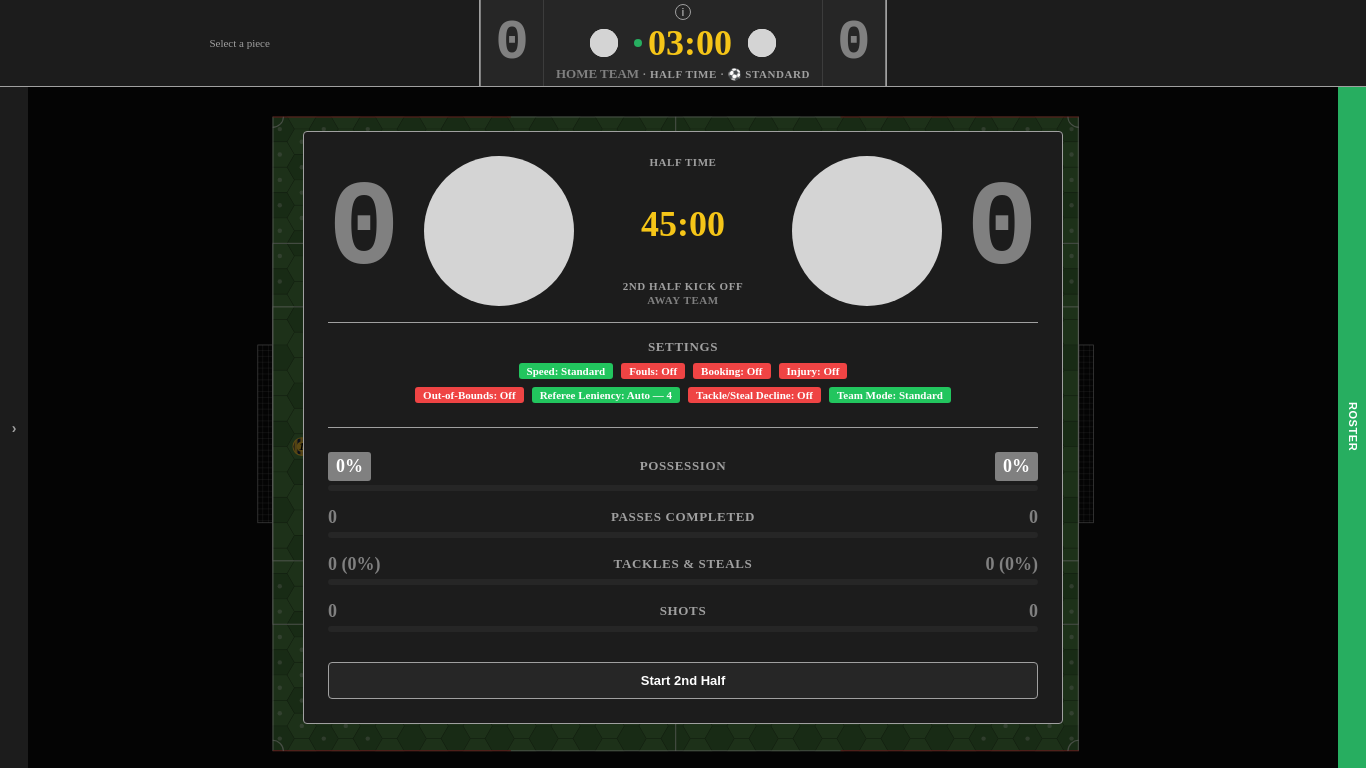
it: Phase 42 — roster panel wiring and chrome › 1. SUB-16: opening the panel renders a Resume button (no Close-substitutions control), and clicking Resume closes it
Click the button with aria-label "Open substitutions" at (1352, 427), box [1342, 398, 1362, 457]
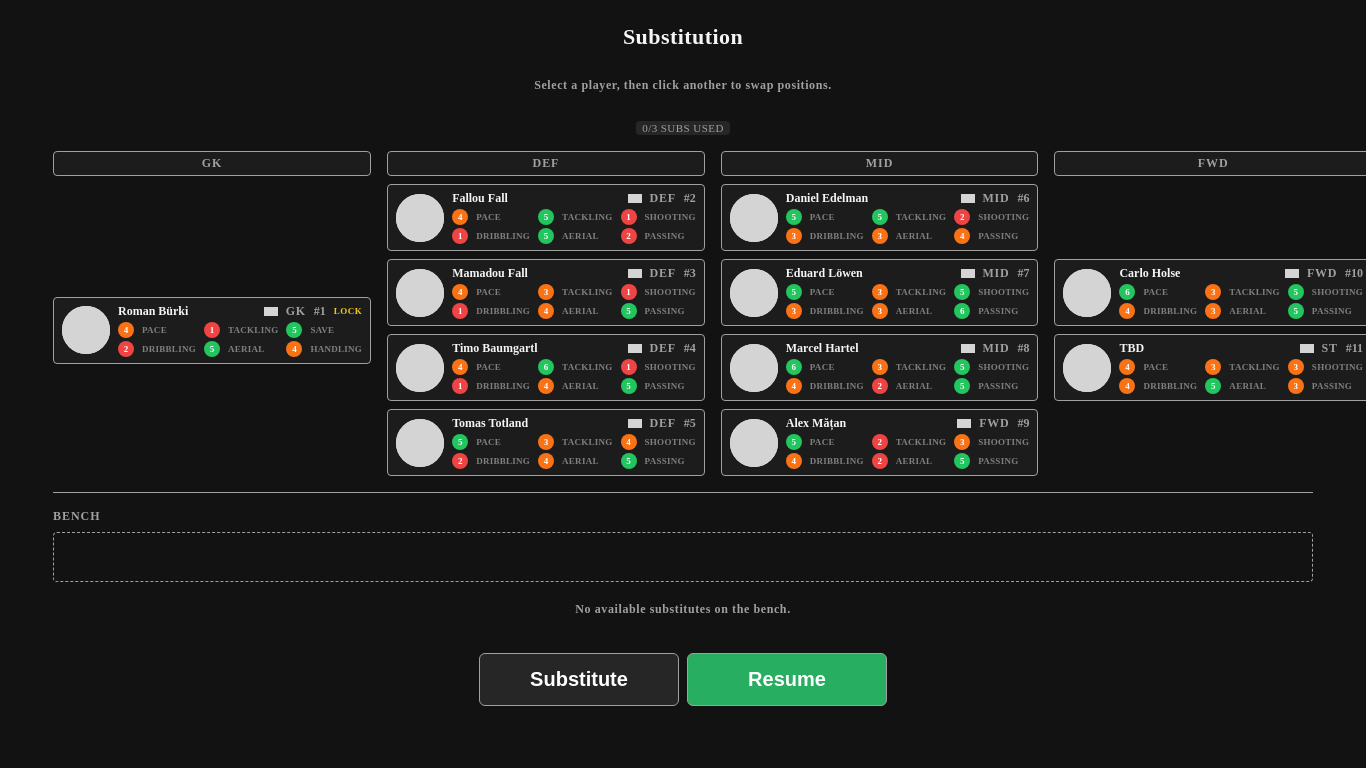
Result: the heading "Substitution" is shown at [623, 24, 743, 50]
Result: the button with aria-label "Resume match" reads "Resume"
Click the button with aria-label "Resume match" at (787, 680), box [687, 653, 887, 706]
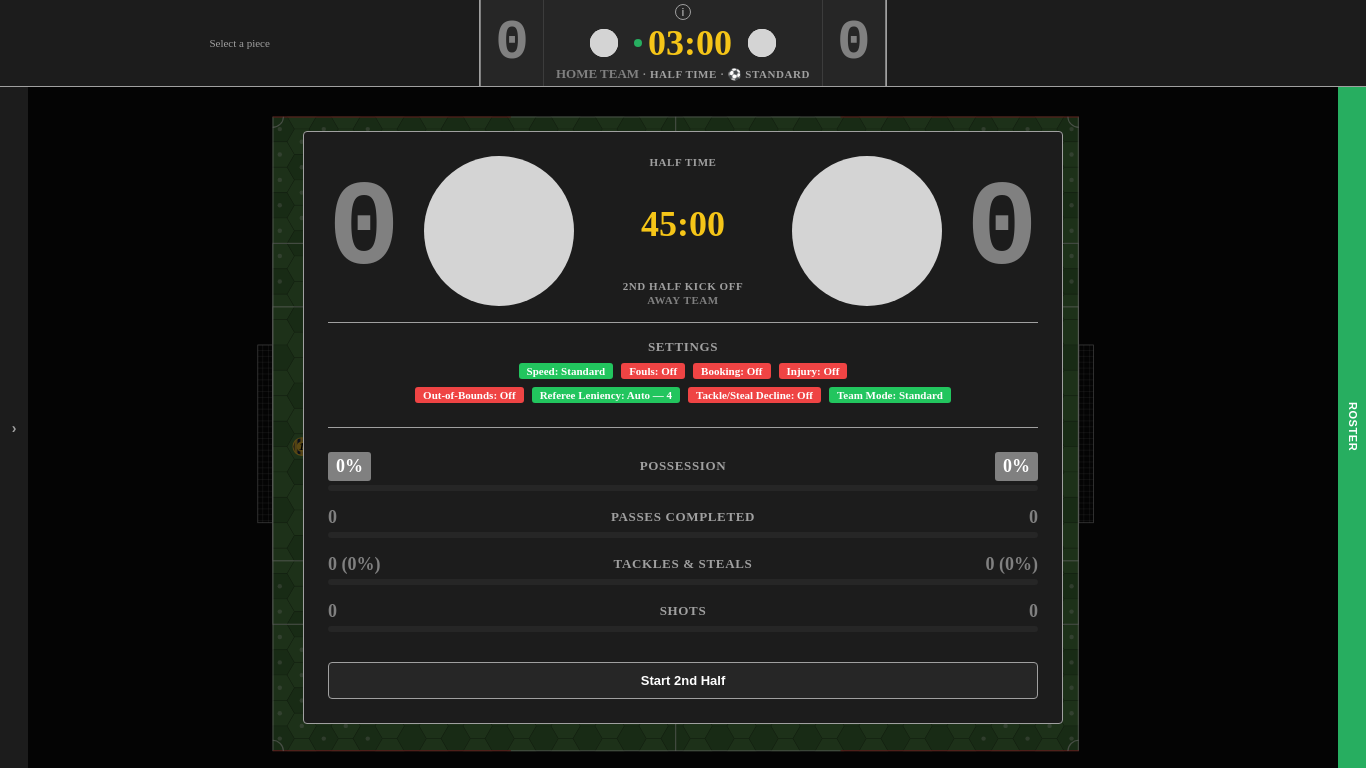
Result: the heading "Substitution" is gone
